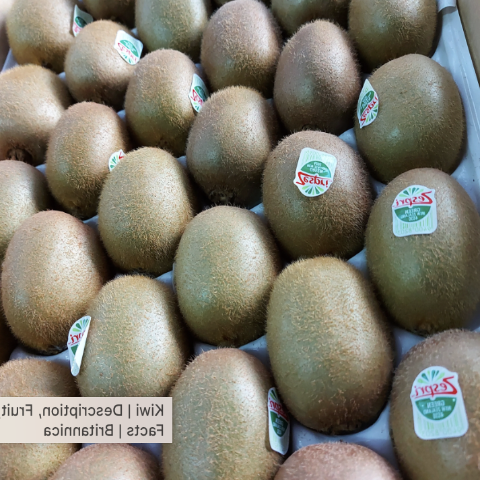kiwi: (255, 236, 407, 438), (64, 260, 193, 423), (357, 160, 477, 329), (162, 335, 302, 479), (0, 200, 112, 373), (92, 135, 200, 283), (267, 9, 371, 152), (263, 125, 363, 264), (44, 94, 139, 221), (116, 45, 214, 157), (182, 74, 273, 187)
